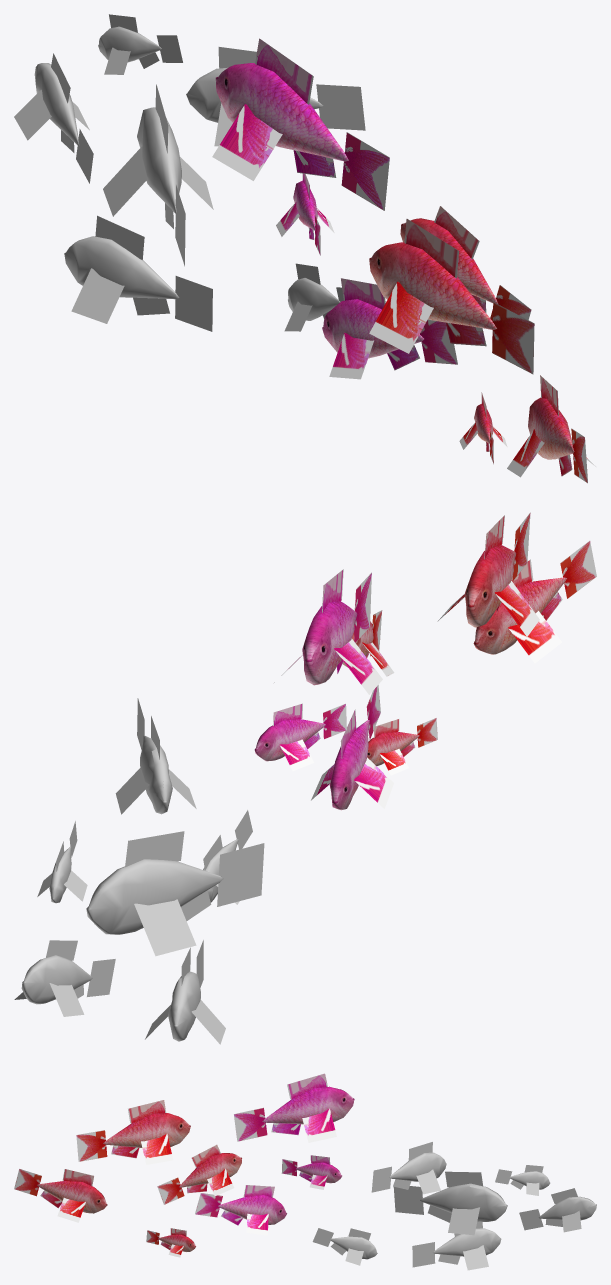
The model's file is fish_cluster.fbx.
3 renders of one model, top to bottom at view 1: azimuth 30°, elevation 25°; view 2: azimuth 150°, elevation 25°; view 3: azimuth 270°, elevation 25°, orthographic. The views are drawn at different scales.
Parts seen in each view (by area): view 1: pPlane12, pPlane15, pPlane14, pPlane17, pPlane13, pPlane22, pPlane18, pPlane21, pPlane25, pPlane23, pPlane16, pPlane24 (+1 smaller); view 2: pPlane13, pPlane12, pPlane18, pPlane15, pPlane21, pPlane17, pPlane24, pPlane22, pPlane14, pPlane11, pPlane23, pPlane16 (+1 smaller); view 3: pPlane12, pPlane13, pPlane15, pPlane18, pPlane17, pPlane25, pPlane14, pPlane22, pPlane21, pPlane16, pPlane24, pPlane23 (+1 smaller).
Boxes of the visible parts, x1,y1,x2,y2 form: pPlane12: [212, 38, 389, 210]; pPlane15: [369, 219, 534, 374]; pPlane14: [64, 215, 212, 331]; pPlane17: [322, 278, 457, 379]; pPlane13: [103, 84, 213, 266]; pPlane22: [186, 47, 365, 146]; pPlane18: [507, 375, 595, 483]; pPlane21: [14, 53, 93, 183]; pPlane25: [400, 206, 531, 320]; pPlane23: [98, 14, 182, 74]; pPlane16: [284, 263, 343, 331]; pPlane24: [276, 173, 334, 255]; pPlane13: [86, 831, 264, 956]; pPlane12: [274, 569, 382, 694]; pPlane18: [473, 540, 596, 663]; pPlane15: [437, 512, 539, 636]; pPlane21: [14, 940, 115, 1016]; pPlane17: [311, 685, 393, 810]; pPlane24: [254, 703, 346, 771]; pPlane22: [115, 698, 196, 814]; pPlane14: [145, 940, 225, 1044]; pPlane11: [367, 718, 437, 775]; pPlane23: [37, 821, 87, 903]; pPlane16: [203, 810, 252, 904]; pPlane12: [234, 1073, 354, 1142]; pPlane13: [393, 1171, 507, 1235]; pPlane15: [76, 1100, 190, 1164]; pPlane18: [14, 1169, 107, 1222]; pPlane17: [195, 1185, 286, 1235]; pPlane25: [157, 1144, 241, 1204]; pPlane14: [412, 1221, 501, 1270]; pPlane22: [371, 1142, 446, 1194]; pPlane21: [519, 1188, 596, 1232]; pPlane16: [312, 1228, 377, 1265]; pPlane24: [281, 1155, 341, 1189]; pPlane23: [495, 1165, 550, 1195].
Bounding box in the file's own units: 7.14 × 12.43 × 34.8.
